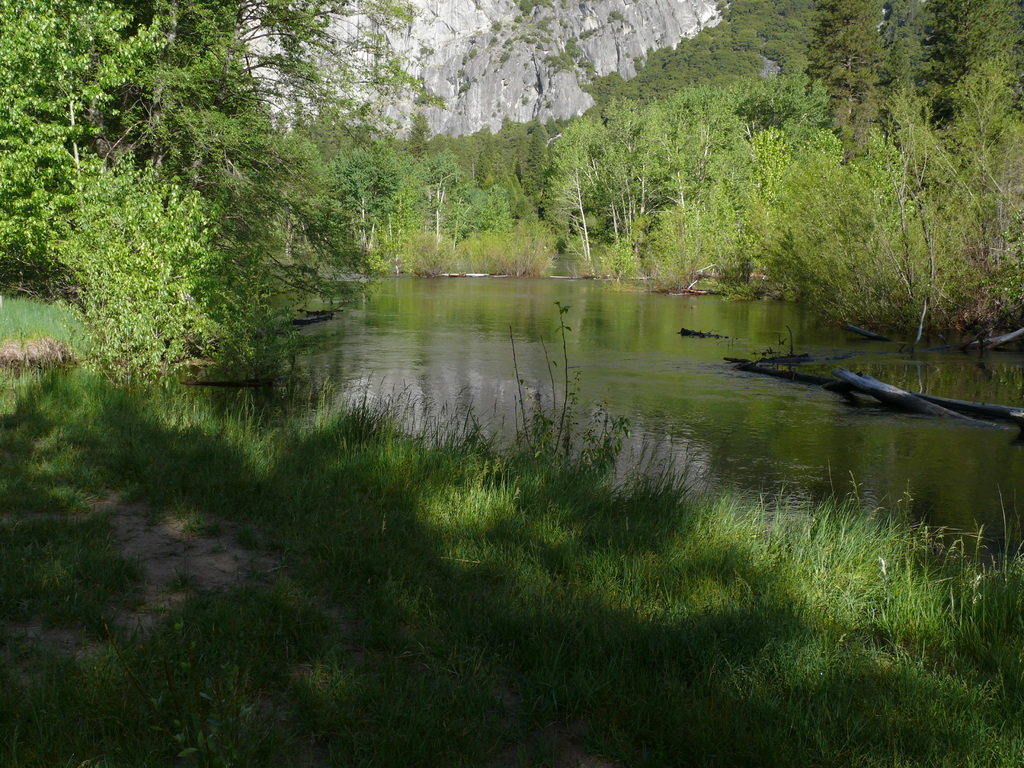Tree: (0, 0, 1023, 385)
